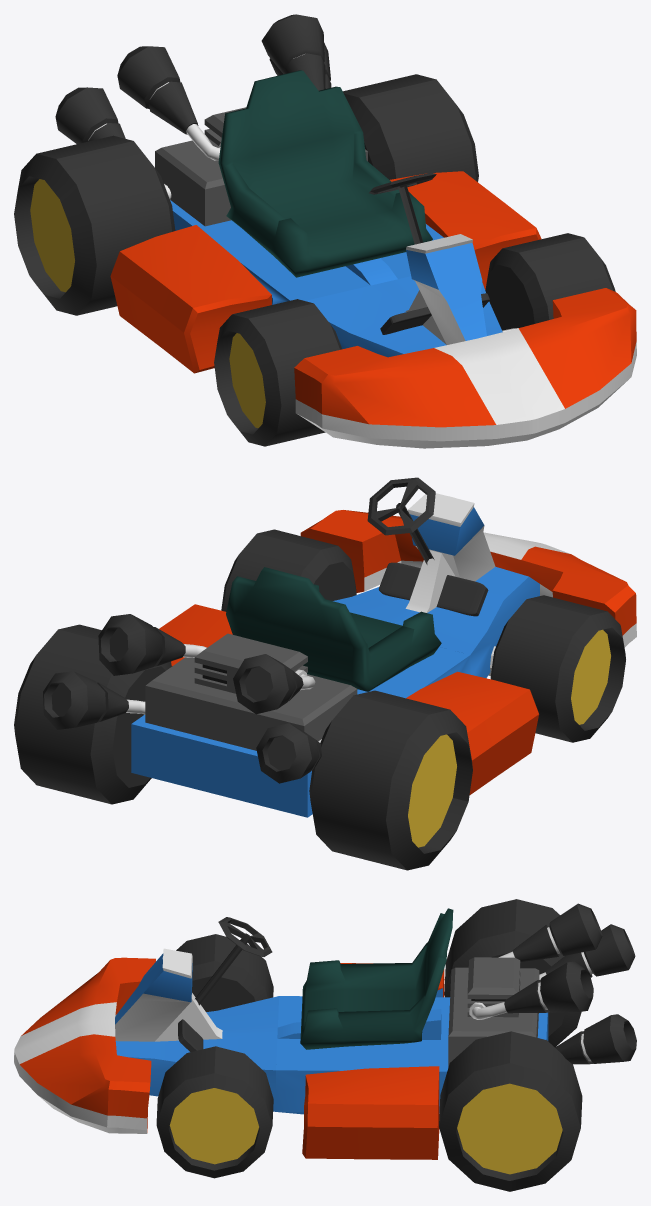
Rendered from Go Cart.fbx.
The picture shows the model from 3 angles, top to bottom: view 1: azimuth 30°, elevation 25°; view 2: azimuth 150°, elevation 25°; view 3: azimuth 270°, elevation 25°; orthographic projection. The views are drawn at different scales.
Visible parts, largest first — view 1: Cube, Cube.001, Cylinder.003, Cylinder.002, Cylinder.001, Cylinder, Cylinder.010, Cylinder.008, Cylinder.011, Cube.002; view 2: Cube, Cylinder.003, Cylinder.001, Cube.001, Cylinder.002, Cylinder, Cylinder.008, Cylinder.009, Cylinder.010, Cylinder.011, Cube.002, Cylinder.007; view 3: Cube, Cylinder.001, Cylinder, Cube.001, Cylinder.003, Cylinder.002, Cylinder.008, Cylinder.010, Cylinder.009, Cylinder.011, Cylinder.007, Cylinder.006 (+1 smaller).
Part boxes in pixels (x1,y1,x2,y2): Cube: (110, 107, 636, 448); Cube.001: (218, 70, 432, 277); Cylinder.003: (14, 135, 175, 315); Cylinder.002: (214, 299, 341, 446); Cylinder.001: (343, 74, 478, 181); Cylinder: (485, 233, 615, 330); Cylinder.010: (117, 46, 220, 160); Cylinder.008: (261, 14, 325, 90); Cylinder.011: (55, 87, 171, 199); Cube.002: (380, 293, 489, 334); Cube: (131, 493, 636, 817); Cylinder.003: (309, 690, 472, 870); Cylinder.001: (14, 624, 171, 804); Cube.001: (226, 567, 441, 691); Cylinder.002: (490, 595, 625, 742); Cylinder: (221, 529, 356, 611); Cylinder.008: (98, 614, 206, 675); Cylinder.009: (43, 671, 145, 729); Cylinder.010: (233, 654, 315, 714); Cylinder.011: (256, 723, 321, 783); Cube.002: (378, 562, 488, 616); Cylinder.007: (367, 477, 435, 535); Cube: (14, 948, 548, 1159); Cylinder.001: (439, 1031, 582, 1191); Cylinder: (156, 1046, 273, 1178); Cube.001: (300, 908, 453, 1049); Cylinder.003: (444, 899, 581, 1047); Cylinder.002: (176, 934, 273, 1011); Cylinder.008: (469, 961, 593, 1019); Cylinder.010: (498, 903, 602, 961); Cylinder.009: (555, 1014, 636, 1064); Cylinder.011: (539, 924, 635, 979); Cylinder.007: (218, 917, 272, 956); Cylinder.006: (195, 933, 249, 1005).
Size of the model in its own units: 224 by 122 by 354.
